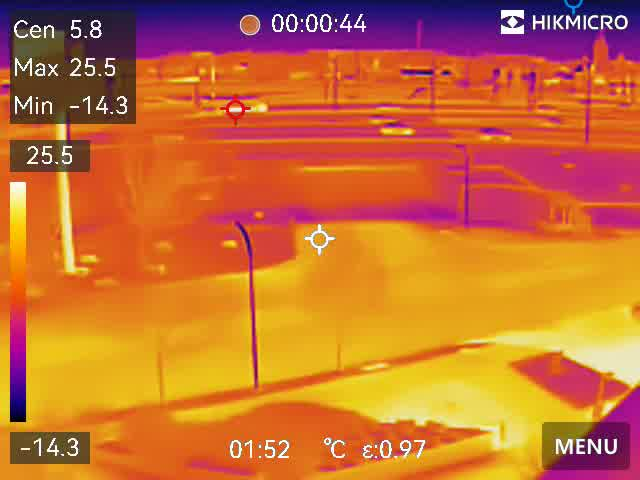vehicle: (476, 126, 519, 144), (382, 122, 418, 141), (370, 110, 394, 126)
